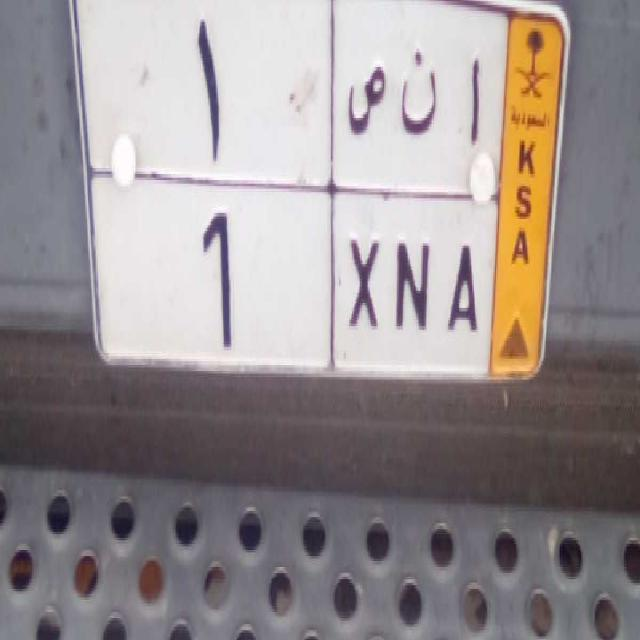license_plate: (82, 168, 492, 388)
